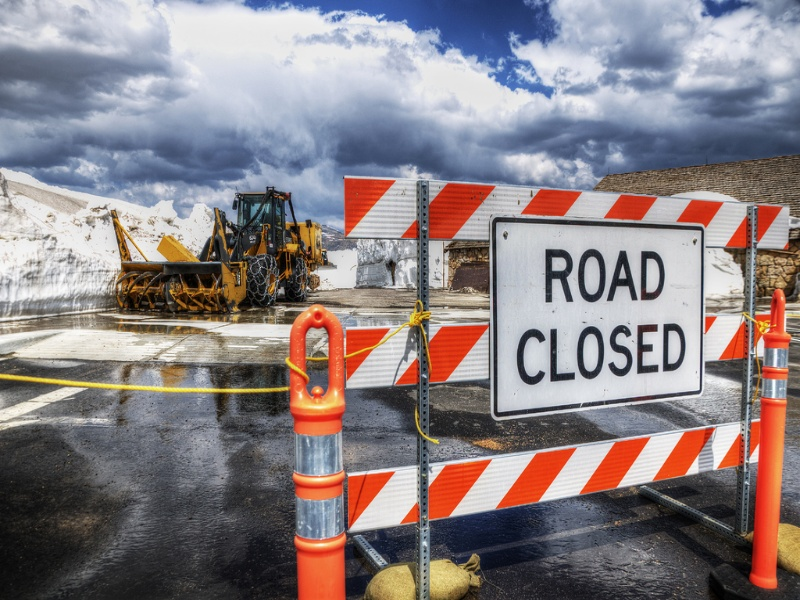road_closed: (487, 214, 724, 407)
